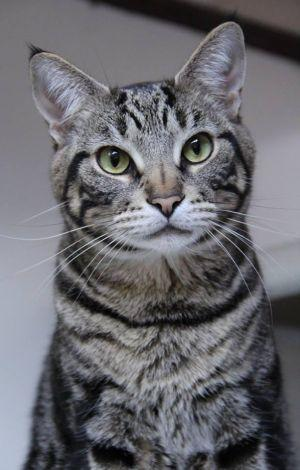bengal: (25, 14, 267, 258)
